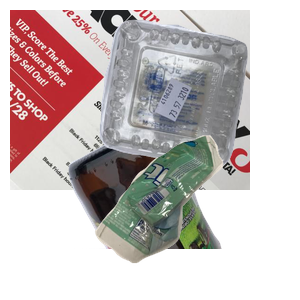glass: (66, 120, 300, 300)
paper: (10, 10, 250, 190)
plastic: (97, 17, 300, 176)
trash: (92, 133, 300, 300)
